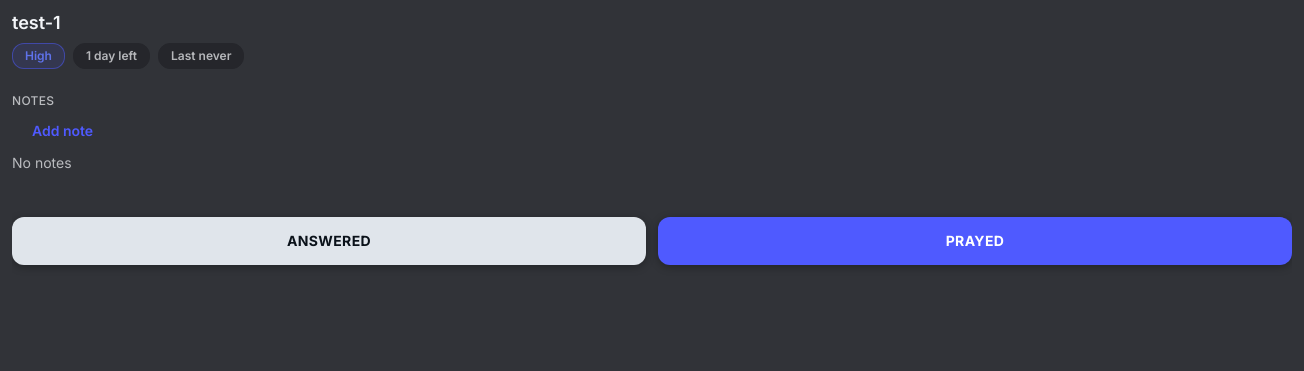
Test: RequestCard › Note Form State › opens note form on add note click
Click the button with test id "note-open" at (53,130), box [12,120,93,140]
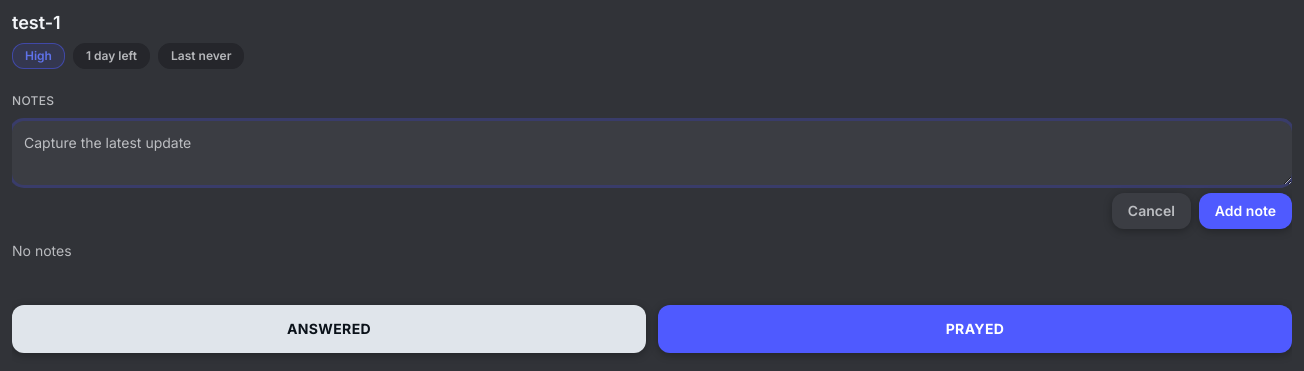
Check: the element with test id "note-form" is shown, box [12,120,1292,228]
